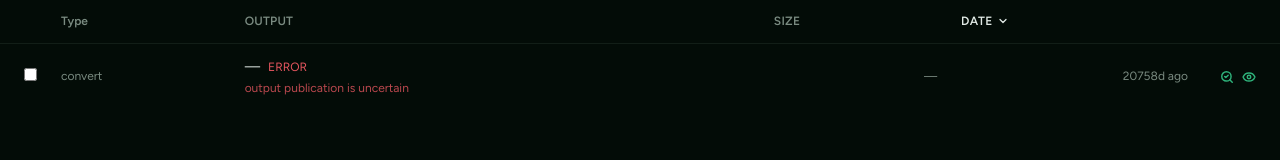
HistoryList verified publication review › keeps a unproven assessment unresolved with its reason
This screenshot has width=1280, height=160.
Click the button named "review uncertain publication" at (1227, 77), box [1220,70,1234,84]
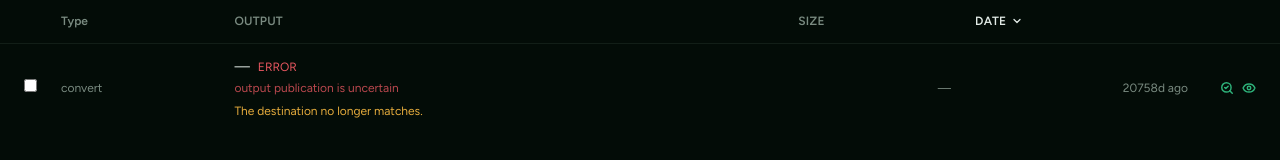
Result: the message reads "The destination no longer matches." at [234,104,423,118]
